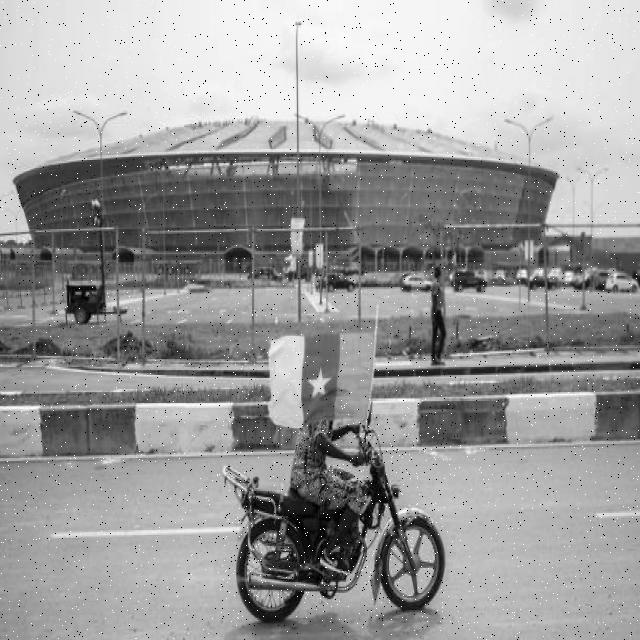Motorbike: (221, 421, 445, 624)
